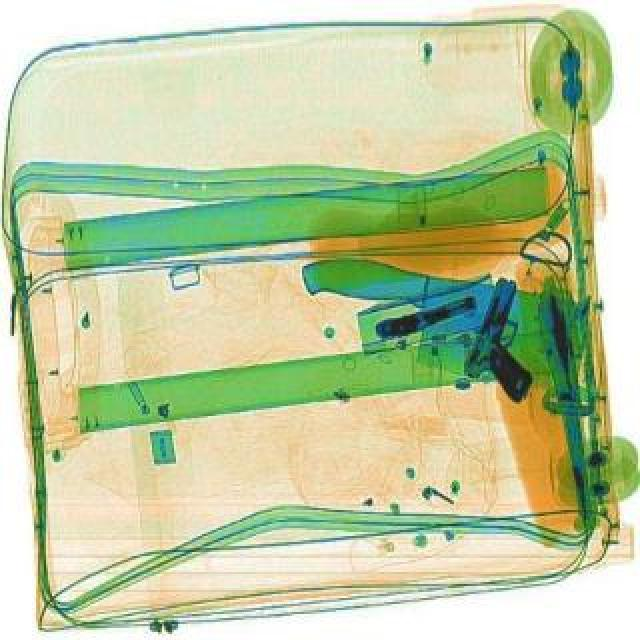gun: (456, 272, 564, 404), (372, 294, 480, 338)
knife: (286, 244, 598, 398), (534, 274, 598, 520)
